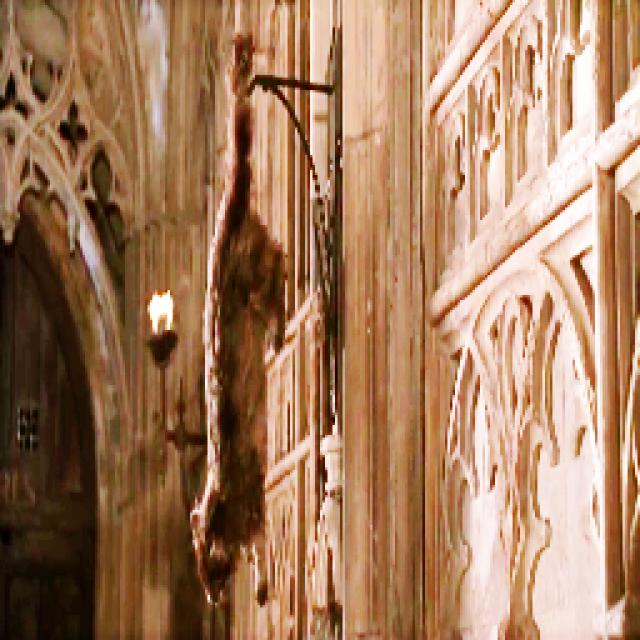cat: (160, 36, 310, 638)
